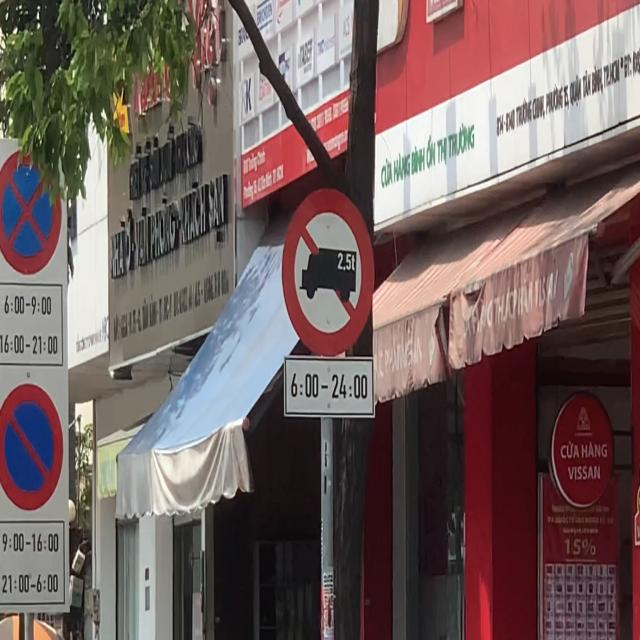Cam con lai: (282, 186, 376, 356)
Cam do: (0, 382, 64, 511)
Cam dung va do: (0, 149, 62, 276)
